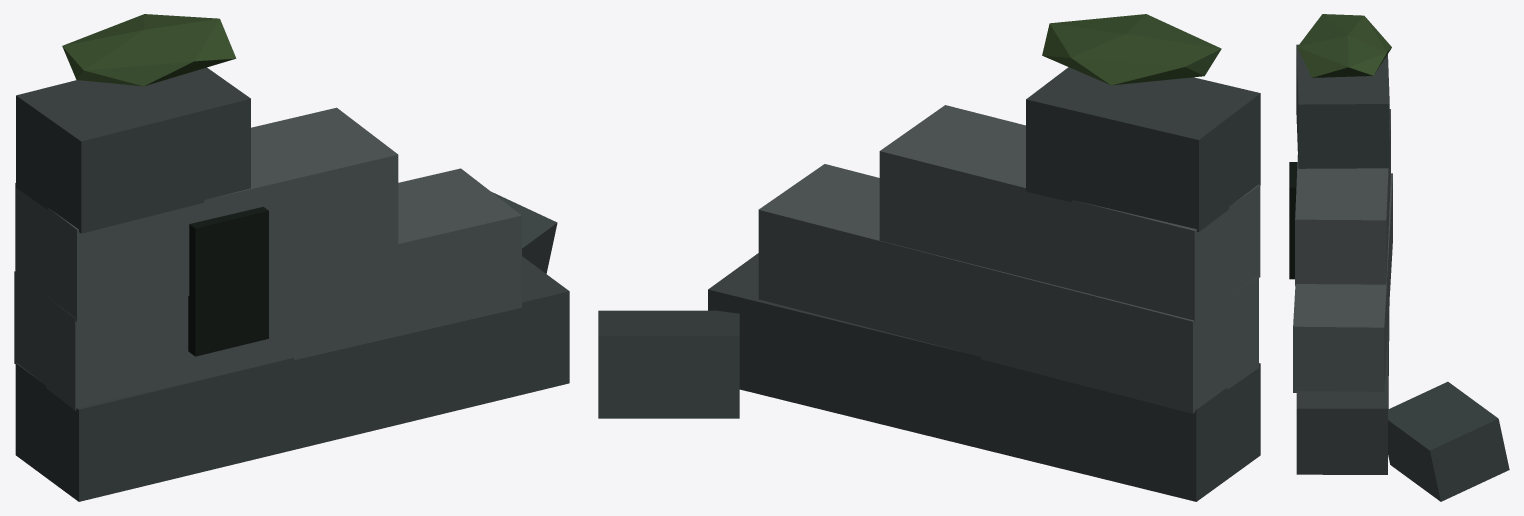
The model's file is decor_wall.glb.
3 renders of one model, left to right at view 1: azimuth 30°, elevation 25°; view 2: azimuth 150°, elevation 25°; view 3: azimuth 270°, elevation 25°, orthographic. The views are drawn at different scales.
Parts seen in each view (by area): view 1: decor_wall; view 2: decor_wall; view 3: decor_wall.
Boxes of the visible parts, x1,y1,x2,y2 form: decor_wall: (14,14,569,501); decor_wall: (598,14,1260,501); decor_wall: (1289,14,1509,501).
Bounding box in the file's own units: 2.34 × 1.66 × 1.09.
